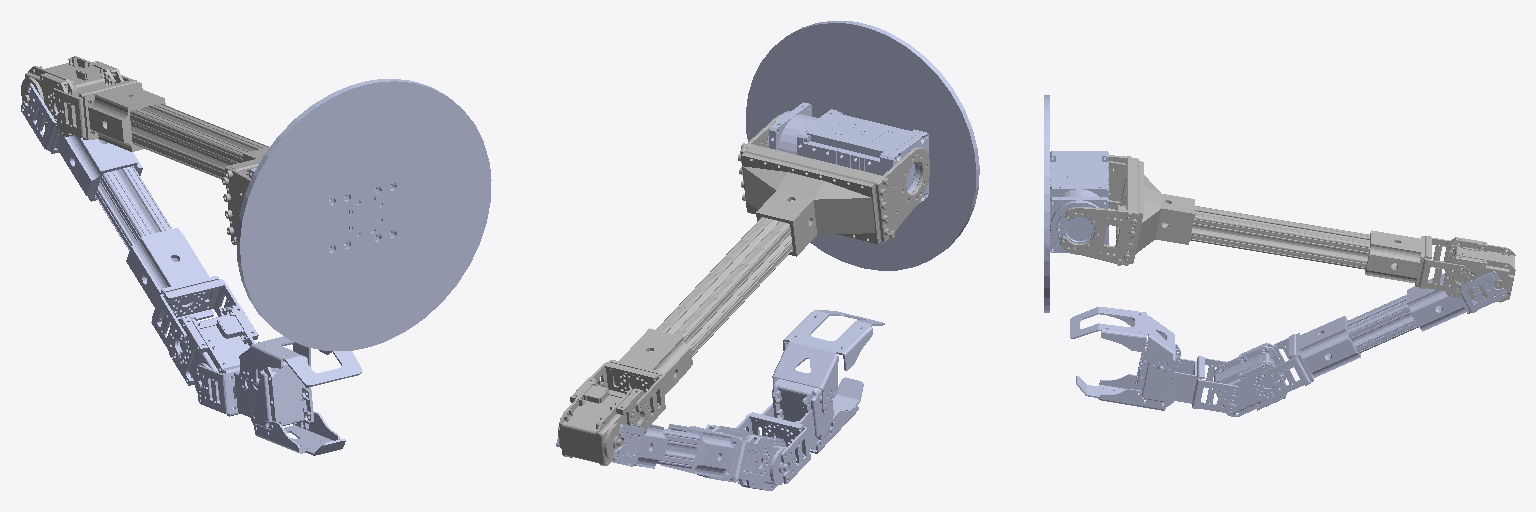
robot.urdf — Robotic_Arm:
<?xml version="1.0" encoding="utf-8"?>
<!-- This URDF was automatically created by SolidWorks to URDF Exporter! Originally created by [author] ([email redacted]) 
     Commit Version: 1.5.0-0-g9aa0fdb  Build Version: 1.5.7004.21443
     For more information, please see http://wiki.ros.org/sw_urdf_exporter -->
<robot
  name="Robotic_Arm">

  <link
    name="arm_link_1">
    <inertial>
      <origin
        xyz="-0.0023986 0.021961 -0.00036542"
        rpy="0 0 0" />
      <mass
        value="0.44911" />
      <inertia
        ixx="0.00052376"
        ixy="1.1533E-09"
        ixz="-4.7849E-08"
        iyy="0.0011151"
        iyz="2.7992E-10"
        izz="0.00072274" />
    </inertial>
    <visual>
      <origin
        xyz="0 0 0"
        rpy="0 0 0" />
      <geometry>
        <mesh
          filename="package://Robotic_Arm/meshes/arm_link_1.STL" />
      </geometry>
      <material
        name="">
        <color
          rgba="0.79216 0.81961 0.93333 1" />
      </material>
    </visual>
    <collision>
      <origin
        xyz="0 0 0"
        rpy="0 0 0" />
      <geometry>
        <mesh
          filename="package://Robotic_Arm/meshes/arm_link_1.STL" />
      </geometry>
    </collision>
  </link>
  <link
    name="arm_link_2">
    <inertial>
      <origin
        xyz="-0.00050058 0.19252 -0.00026568"
        rpy="0 0 0" />
      <mass
        value="0.42193" />
      <inertia
        ixx="0.001191"
        ixy="-9.3857E-08"
        ixz="-3.6112E-07"
        iyy="0.00016587"
        iyz="-8.5846E-07"
        izz="0.0011224" />
    </inertial>
    <visual>
      <origin
        xyz="0 0 0"
        rpy="0 0 0" />
      <geometry>
        <mesh
          filename="package://Robotic_Arm/meshes/arm_link_2.STL" />
      </geometry>
      <material
        name="">
        <color
          rgba="0.75294 0.75294 0.75294 1" />
      </material>
    </visual>
    <collision>
      <origin
        xyz="0 0 0"
        rpy="0 0 0" />
      <geometry>
        <mesh
          filename="package://Robotic_Arm/meshes/arm_link_2.STL" />
      </geometry>
    </collision>
  </link>
  <joint
    name="arm_joint_2"
    type="continuous">
    <origin
      xyz="-0.0023104 0.032 -0.00054816"
      rpy="-1.5708 -1.3894 1.5708" />
    <parent
      link="arm_link_1" />
    <child
      link="arm_link_2" />
    <axis
      xyz="0 0 1" />
    <safety_controller
      k_velocity="0" />
  </joint>
  <link
    name="arm_link_3">
    <inertial>
      <origin
        xyz="0.00088882 0.15812 0.00071071"
        rpy="0 0 0" />
      <mass
        value="0.25828" />
      <inertia
        ixx="0.00027832"
        ixy="-8.812E-07"
        ixz="-1.4423E-11"
        iyy="5.4616E-05"
        iyz="-8.6935E-09"
        izz="0.00029095" />
    </inertial>
    <visual>
      <origin
        xyz="0 0 0"
        rpy="0 0 0" />
      <geometry>
        <mesh
          filename="package://Robotic_Arm/meshes/arm_link_3.STL" />
      </geometry>
      <material
        name="">
        <color
          rgba="0.79216 0.81961 0.93333 1" />
      </material>
    </visual>
    <collision>
      <origin
        xyz="0 0 0"
        rpy="0 0 0" />
      <geometry>
        <mesh
          filename="package://Robotic_Arm/meshes/arm_link_3.STL" />
      </geometry>
    </collision>
  </link>
  <joint
    name="arm_joint_3"
    type="continuous">
    <origin
      xyz="-0.0011 0.391 0.0013878"
      rpy="2.5049 -1.5708 0" />
    <parent
      link="arm_link_2" />
    <child
      link="arm_link_3" />
    <axis
      xyz="1 0 0" />
    <safety_controller
      k_velocity="0" />
  </joint>
  <link
    name="arm_link_4">
    <inertial>
      <origin
        xyz="0.00043251 0.065624 0.00078915"
        rpy="0 0 0" />
      <mass
        value="0.059133" />
      <inertia
        ixx="1.4968E-05"
        ixy="4.3637E-13"
        ixz="1.8275E-07"
        iyy="1.725E-05"
        iyz="-6.5009E-09"
        izz="1.5087E-05" />
    </inertial>
    <visual>
      <origin
        xyz="0 0 0"
        rpy="0 0 0" />
      <geometry>
        <mesh
          filename="package://Robotic_Arm/meshes/arm_link_4.STL" />
      </geometry>
      <material
        name="">
        <color
          rgba="0.79216 0.81961 0.93333 1" />
      </material>
    </visual>
    <collision>
      <origin
        xyz="0 0 0"
        rpy="0 0 0" />
      <geometry>
        <mesh
          filename="package://Robotic_Arm/meshes/arm_link_4.STL" />
      </geometry>
    </collision>
  </link>
  <joint
    name="arm_joint_4"
    type="continuous">
    <origin
      xyz="0.0034 0.2704 0.0011"
      rpy="0.63673 0 0" />
    <parent
      link="arm_link_3" />
    <child
      link="arm_link_4" />
    <axis
      xyz="1 0 0" />
    <safety_controller
      k_velocity="0" />
  </joint>
  <link
    name="arm_link_end">
    <inertial>
      <origin
        xyz="0.030016 -0.023618 0.0143"
        rpy="0 0 0" />
      <mass
        value="0.0085149" />
      <inertia
        ixx="3.6005E-06"
        ixy="5.6076E-07"
        ixz="-1.6478E-13"
        iyy="9.4274E-06"
        iyz="7.1464E-14"
        izz="6.9141E-06" />
    </inertial>
    <visual>
      <origin
        xyz="0 0 0"
        rpy="0 0 0" />
      <geometry>
        <mesh
          filename="package://Robotic_Arm/meshes/arm_link_end.STL" />
      </geometry>
      <material
        name="">
        <color
          rgba="0.79216 0.81961 0.93333 1" />
      </material>
    </visual>
    <collision>
      <origin
        xyz="0 0 0"
        rpy="0 0 0" />
      <geometry>
        <mesh
          filename="package://Robotic_Arm/meshes/arm_link_end.STL" />
      </geometry>
    </collision>
  </link>
  <joint
    name="arm_joint_end"
    type="continuous">
    <origin
      xyz="0.01755 0.0702 0.0155"
      rpy="-1.5708 0 1.5708" />
    <parent
      link="arm_link_4" />
    <child
      link="arm_link_end" />
    <axis
      xyz="0 0 1" />
    <safety_controller
      k_velocity="0" />
  </joint>
</robot>

--- What the picture shows (computed from the rendered views, not written in the file) ---
Views: 3 orthographic renders of the robot side by side, from view 1: azimuth 30°, elevation 25°; view 2: azimuth 150°, elevation 25°; view 3: azimuth 270°, elevation 25°.
Model Robotic_Arm with 5 links and 4 joints (4 continuous), rooted at arm_link_1, posed all joints at 0.
Visible links, largest first — view 1: arm_link_1, arm_link_3, arm_link_2, arm_link_4, arm_link_end; view 2: arm_link_1, arm_link_2, arm_link_3, arm_link_4, arm_link_end; view 3: arm_link_2, arm_link_3, arm_link_1, arm_link_4, arm_link_end.
Link boxes in pixels (box(x1,y1,x2,y2)): arm_link_1: box(236, 79, 491, 350); arm_link_3: box(21, 83, 258, 402); arm_link_2: box(21, 56, 269, 244); arm_link_4: box(195, 355, 345, 455); arm_link_end: box(239, 336, 361, 390); arm_link_1: box(746, 21, 979, 270); arm_link_2: box(558, 114, 929, 465); arm_link_3: box(556, 423, 788, 490); arm_link_4: box(736, 370, 863, 483); arm_link_end: box(772, 310, 884, 414); arm_link_2: box(1060, 155, 1515, 302); arm_link_3: box(1214, 271, 1507, 416); arm_link_1: box(1044, 95, 1108, 312); arm_link_4: box(1076, 341, 1238, 413); arm_link_end: box(1070, 307, 1174, 377).
Bounding box of the posed robot: 0.1999 × 0.4317 × 0.3104 m (x, y, z).
5 mesh visuals loaded from 5 distinct referenced files (5 binary STL).